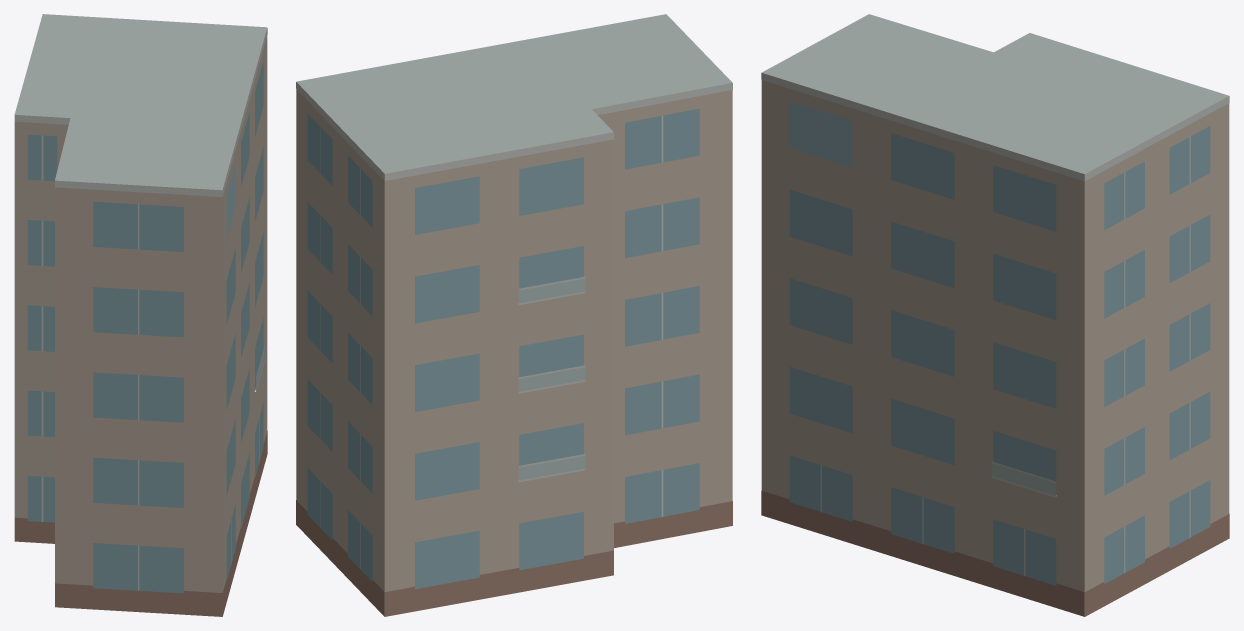
The model's file is survey-upis-33043327.glb.
The picture shows the model from 3 angles, left to right: view 1: azimuth 30°, elevation 25°; view 2: azimuth 150°, elevation 25°; view 3: azimuth 270°, elevation 25°; orthographic projection. The views are drawn at different scales.
Parts seen in each view (by area): view 1: survey-upis-33043327.tmp; view 2: survey-upis-33043327.tmp; view 3: survey-upis-33043327.tmp.
Boxes of the visible parts, <box> form: survey-upis-33043327.tmp: <box>14,14,267,616</box>; survey-upis-33043327.tmp: <box>296,14,732,616</box>; survey-upis-33043327.tmp: <box>761,14,1229,616</box>.
Bounding box in the file's own units: 11.85 × 15.25 × 14.62.
